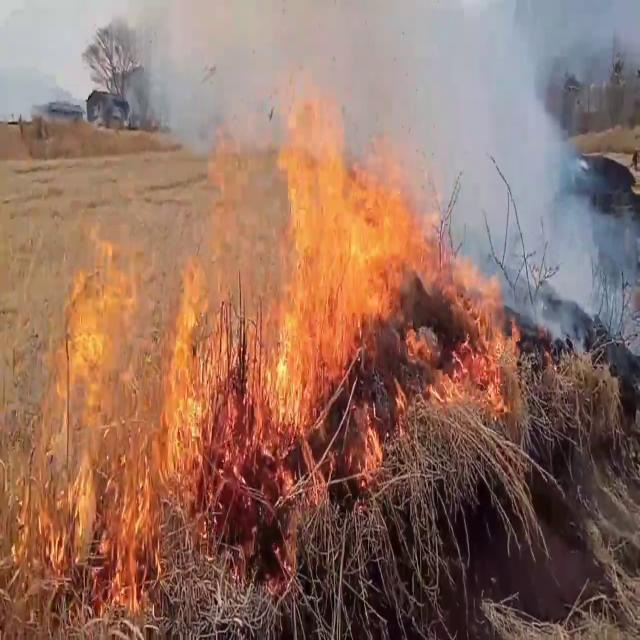Fire: (156, 76, 524, 486), (18, 176, 223, 584)
Smoke: (142, 0, 634, 308)
